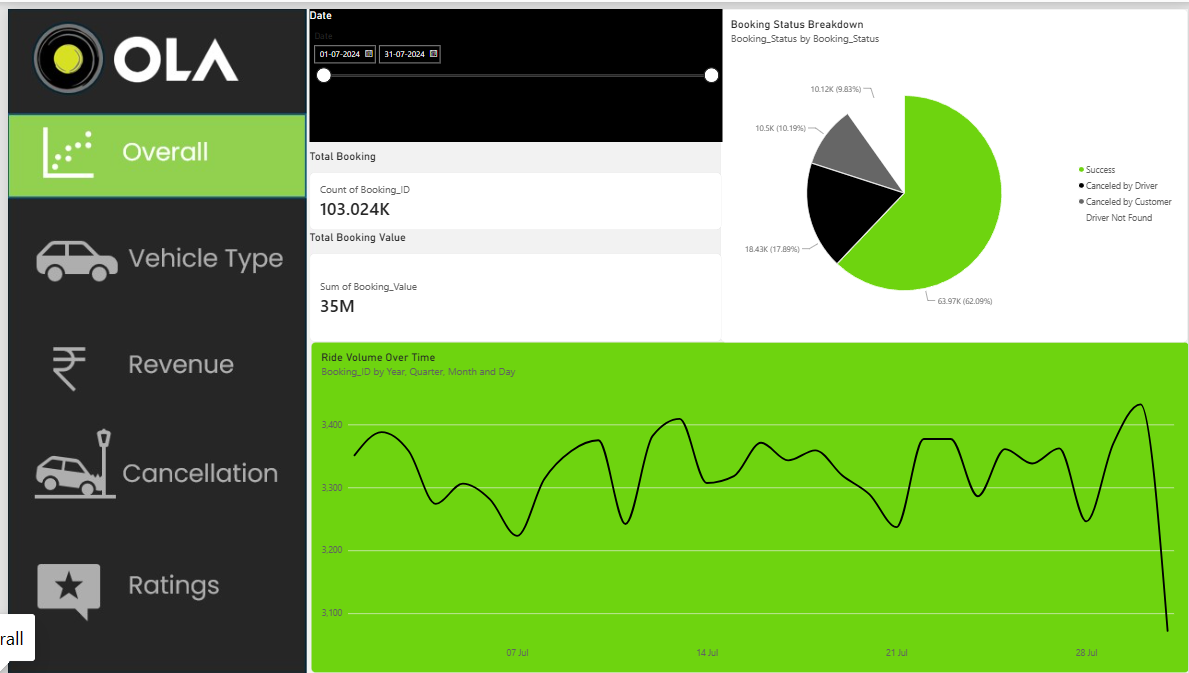

The page's visual inventory and layout, read from the dashboard file:
{"tool":"powerbi","page":{"name":"Overall","canvas":[1920,1080],"ordinal":0},"visuals":[{"type":"lineChart","title":"Ride Volume Over Time","fields":{"Category":["July.Date.Variation.Date Hierarchy.Year","July.Date.Variation.Date Hierarchy.Quarter","July.Date.Variation.Date Hierarchy.Month","July.Date.Variation.Date Hierarchy.Day"],"Y":["CountNonNull(July.Booking_ID)"]},"box":[491.5,541.9,1428.2,537.7],"z":0},{"type":"pieChart","title":"Booking Status Breakdown","fields":{"Category":["July.Booking_Status"],"Y":["CountNonNull(July.Booking_Status)"]},"box":[1159.4,0,760.3,541.9],"z":1000},{"type":"slicer","title":"Date","fields":{"Values":["July.Date"]},"box":[490,0,670,215],"z":2000},{"type":"cardVisual","title":"Total Booking","fields":{"Data":["CountNonNull(July.Booking_ID)"]},"box":[490,230,670,130],"z":3000},{"type":"cardVisual","title":"Total Booking Value","fields":{"Data":["Sum(July.Booking_Value)"]},"box":[490,360,670,180],"z":4000}]}

Visuals, with their boxes on the page's 1920x1080 design canvas (x1, y1, x2, y2). These are canvas units, not pixel positions in the 1189x673 screenshot, which may show the page scaled, cropped or inside an application window:
"Ride Volume Over Time" lineChart: <bbox>492, 542, 1920, 1080</bbox>
"Booking Status Breakdown" pieChart: <bbox>1159, 0, 1920, 542</bbox>
"Date" slicer: <bbox>490, 0, 1160, 215</bbox>
"Total Booking" cardVisual: <bbox>490, 230, 1160, 360</bbox>
"Total Booking Value" cardVisual: <bbox>490, 360, 1160, 540</bbox>
